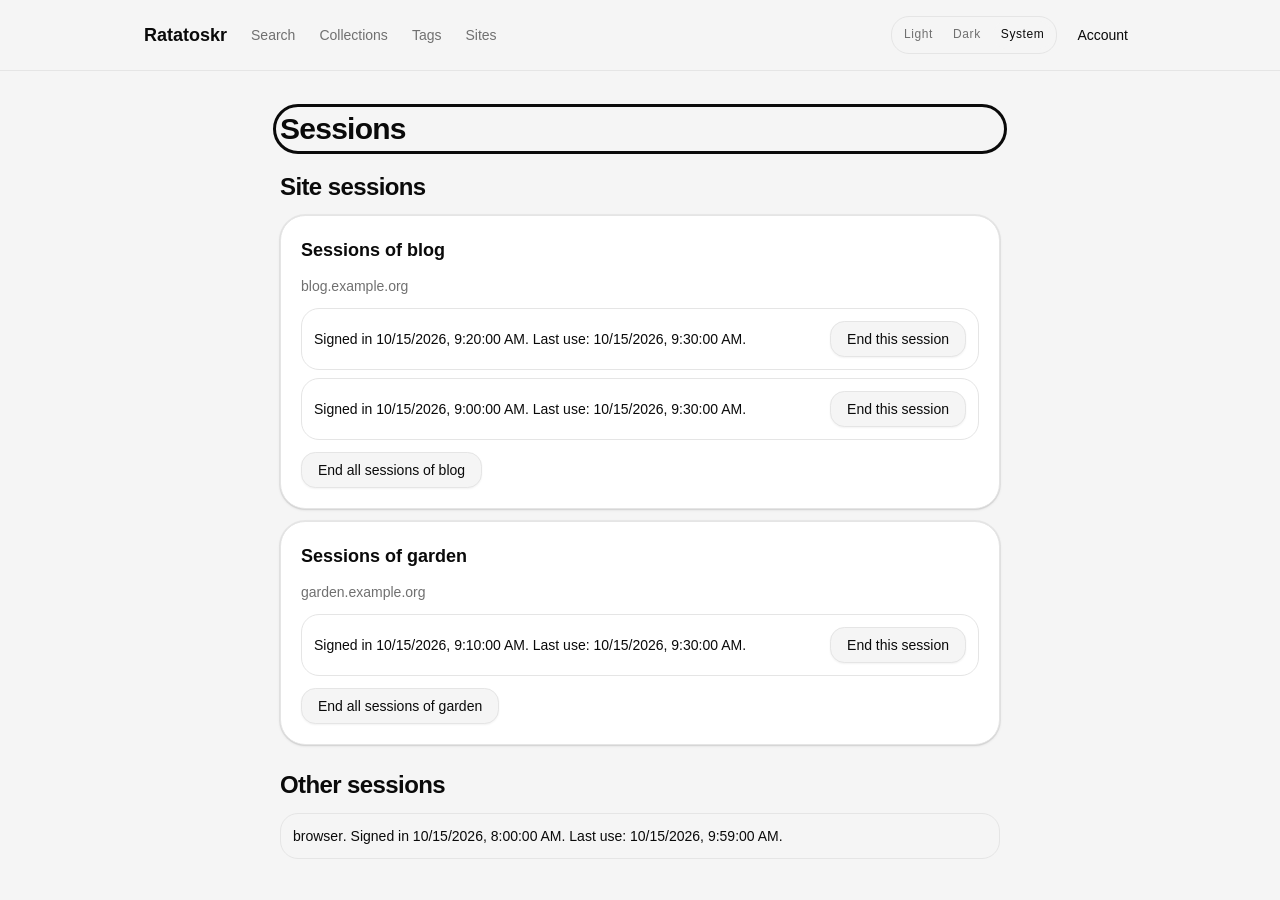
Scenario: two revocations and the end of a group › not_found_removes_the_session
This screenshot has width=1280, height=900.
Step 1. Click the button "End this session" in the row of "10/15/2026, 9:10:00 AM" → (898, 645), box [830,627,966,663]
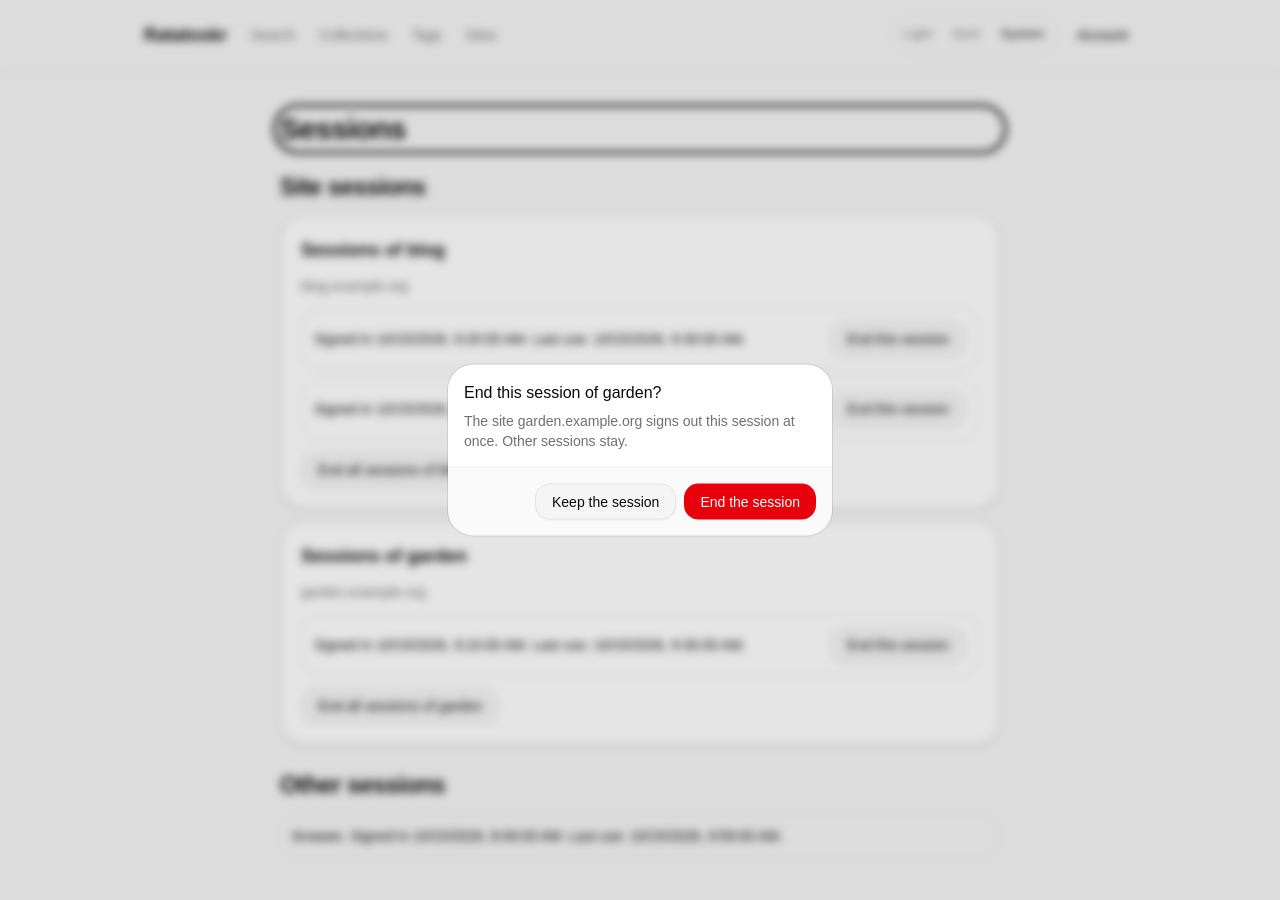
Step 2. Click the button "End the session" → (750, 502), box [684,484,816,520]
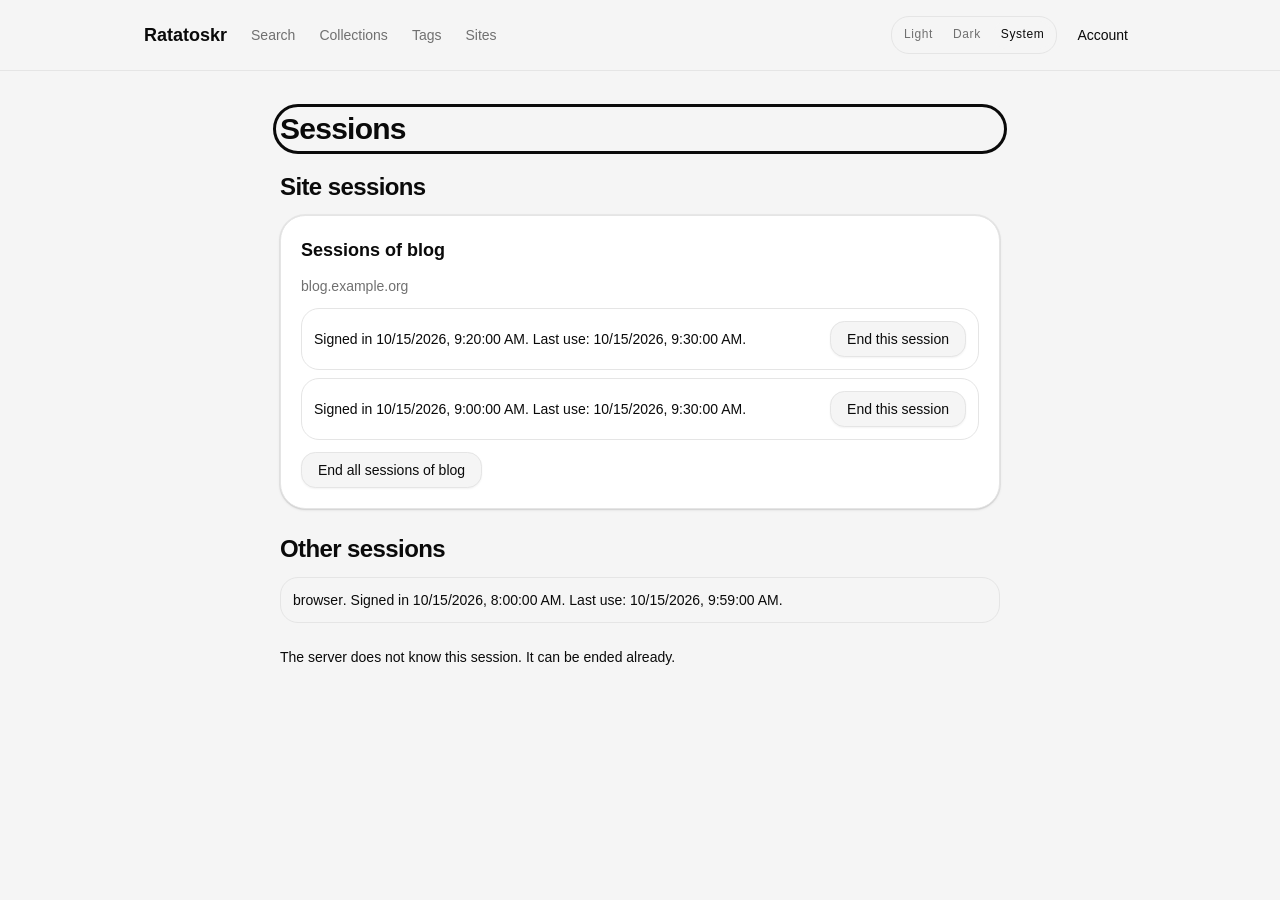
Expected: the text "The server does not know this session. It can be ended already." is shown, [280,649,675,665]
Expected: the heading "Sessions of garden" is gone
